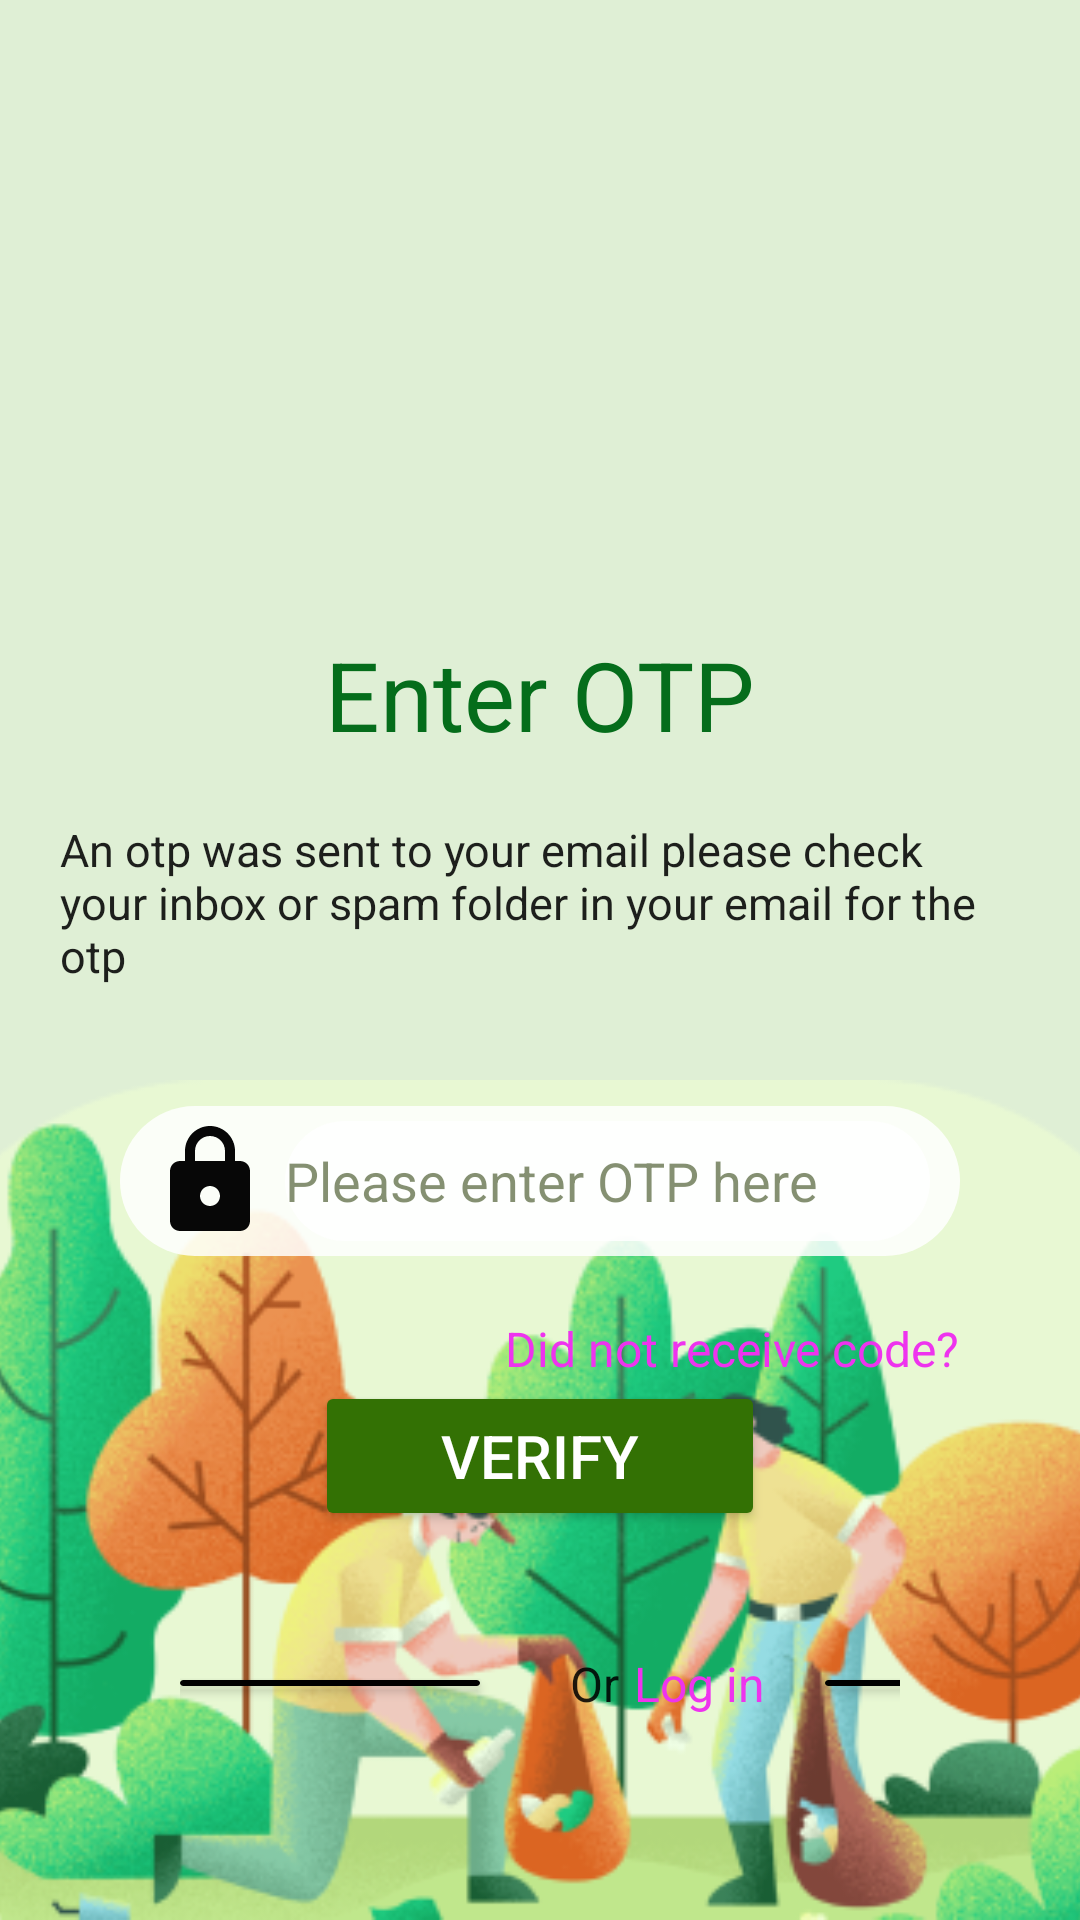

Icons on this 1080 x 1920 Android screen, each with its box as bbox=(x1, y1, x2, y2):
lock: bbox=(170, 1126, 250, 1231)
